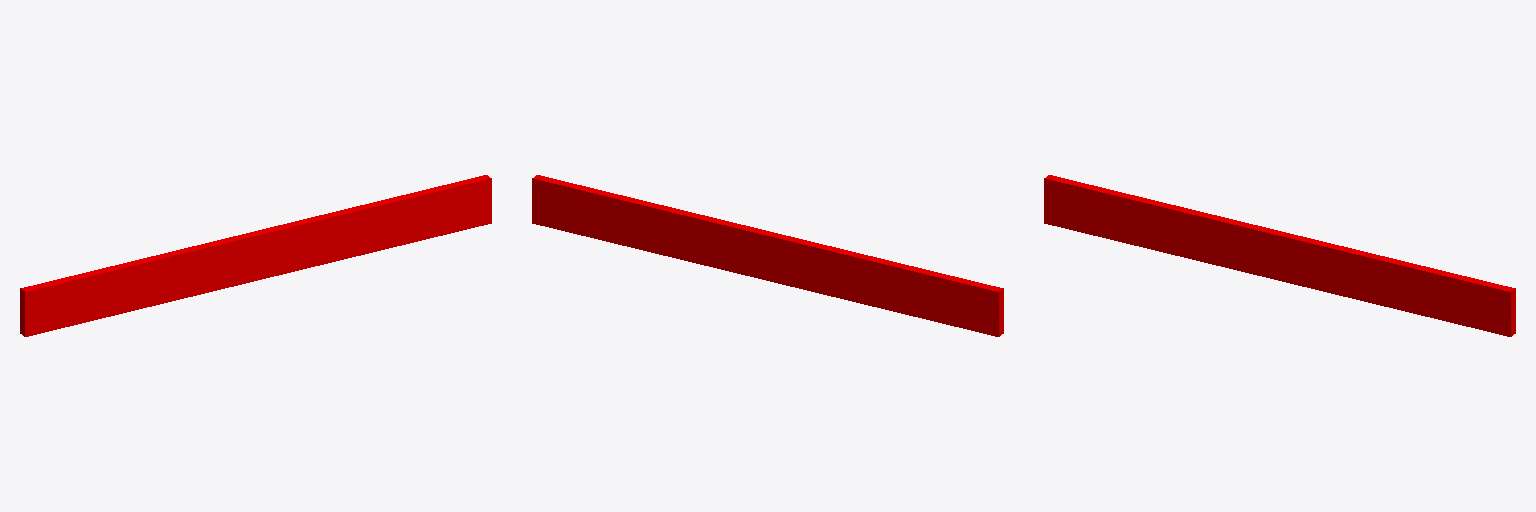
URDF robot description (back_boundary):
<?xml version="1.0"?>
<!-- created with Phobos 1.0.1 "Capricious Choutengan" -->
  <robot name="back_boundary">

    <link name="back_wall">
      <inertial>
        <contact>
          <lateral_friction value="1"/>
        </contact>
        <origin xyz="0 0 0" rpy="0 0 0"/>
        <mass value="0.001"/>
        <inertia ixx="0.001" ixy="0" ixz="0" iyy="0.001" iyz="0" izz="0.001"/>
      </inertial>
      <visual name="Cube">
        <origin xyz="0 0 0" rpy="0 0 0"/>
        <geometry>
          <box size="5.4 0.1 0.5"/>
        </geometry>
        <material name="red">
          <color rgba="1.0 0 0 1.0"/>
        </material>
      </visual>
      <collision>
        <origin rpy="0 0 0" xyz="0 0 0"/>
        <geometry>
          <box size="1.3 0.1 0.5"/>
        </geometry>
      </collision>
    </link>

    <material name="blue">
      <color rgba="0.68 0.74 0.04 1.0"/>
    </material>

  </robot>

--- What the picture shows (computed from the rendered views, not written in the file) ---
3 views of the same robot in one strip: view 1: azimuth 30°, elevation 25°; view 2: azimuth 150°, elevation 25°; view 3: azimuth 330°, elevation 25° (orthographic).
Model back_boundary with 1 links and 0 joints (none), rooted at back_wall, posed every joint at zero.
Links seen in each view (by area): view 1: back_wall; view 2: back_wall; view 3: back_wall.
Link boxes in pixels (bbox=[...]): back_wall: bbox=[20, 175, 491, 336]; back_wall: bbox=[532, 175, 1003, 336]; back_wall: bbox=[1044, 175, 1515, 336].
Bounding box of the posed robot: 5.4 × 0.1 × 0.5 m (x, y, z).
Geometry: primitives only (box / cylinder / sphere), no mesh files.